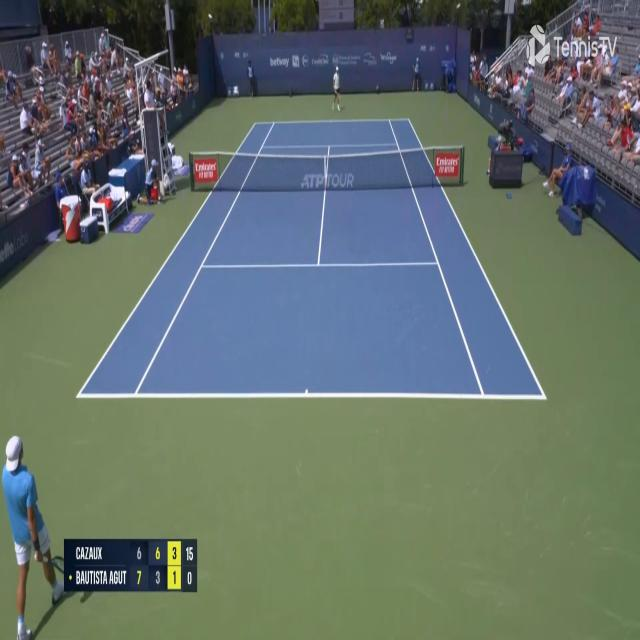tennis-player: (5, 432, 68, 640), (331, 63, 343, 112)
